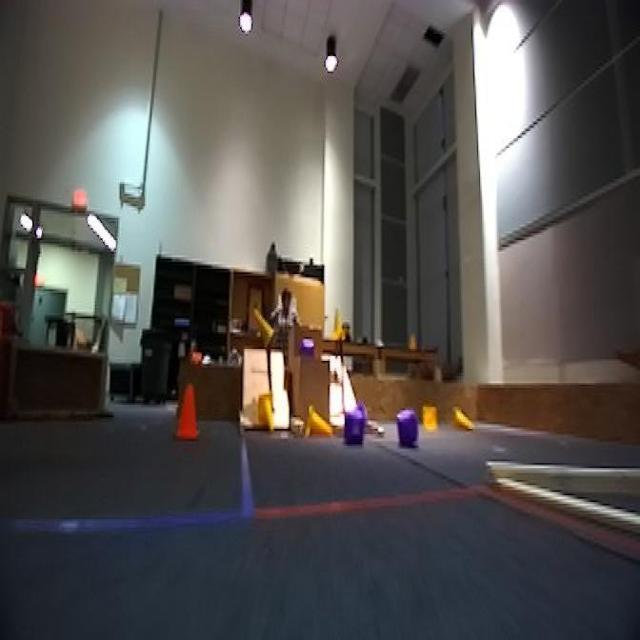frc_cone: (248, 298, 274, 347), (448, 403, 480, 438), (256, 391, 276, 436), (308, 407, 330, 434), (421, 404, 438, 431), (333, 310, 346, 342)
frc_cube: (396, 412, 419, 448), (345, 410, 364, 443), (299, 339, 318, 359)
